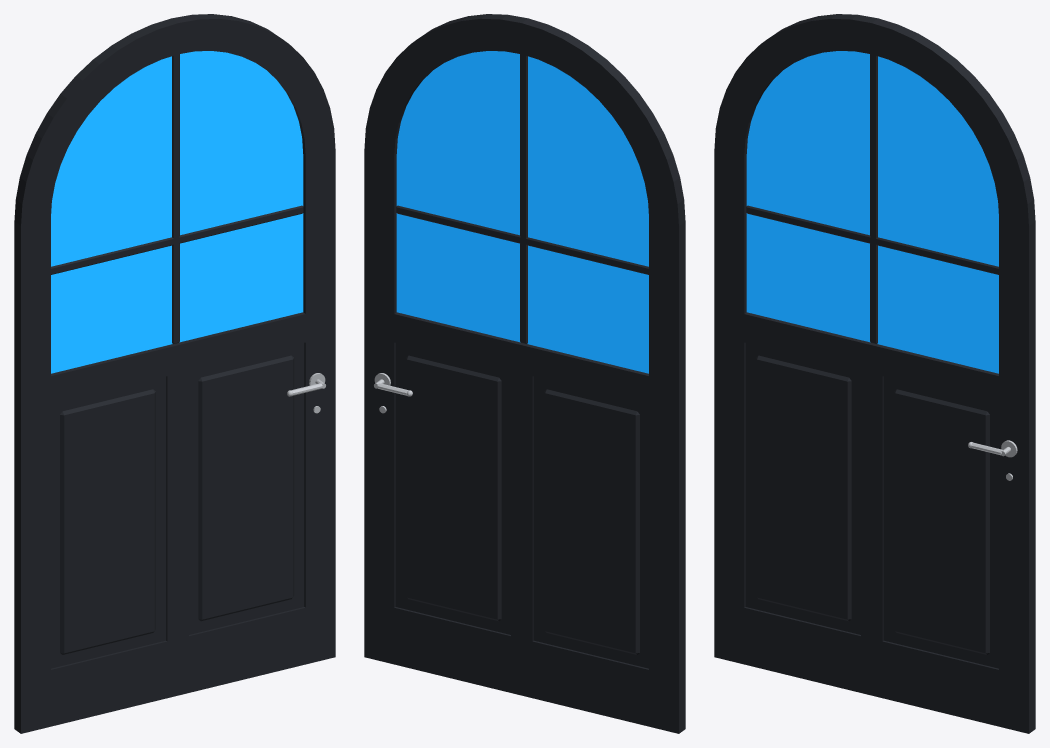
The model's file is porta_arco_preta.glb.
3 views of the same model, side by side, from view 1: azimuth 30°, elevation 25°; view 2: azimuth 150°, elevation 25°; view 3: azimuth 330°, elevation 25° (orthographic).
Parts seen in each view (by area): view 1: porta_arco_preta; view 2: porta_arco_preta; view 3: porta_arco_preta.
Boxes of the visible parts, x1,y1,x2,y2 form: porta_arco_preta: (14, 14, 335, 733); porta_arco_preta: (364, 14, 685, 733); porta_arco_preta: (714, 14, 1035, 733).
Size of the model in its own units: 1.16 by 2.37 by 0.143.
